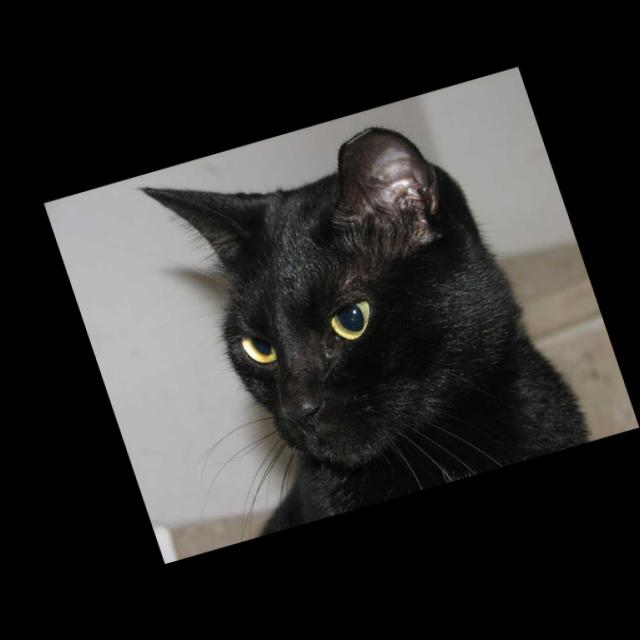animals: (131, 116, 480, 458)
